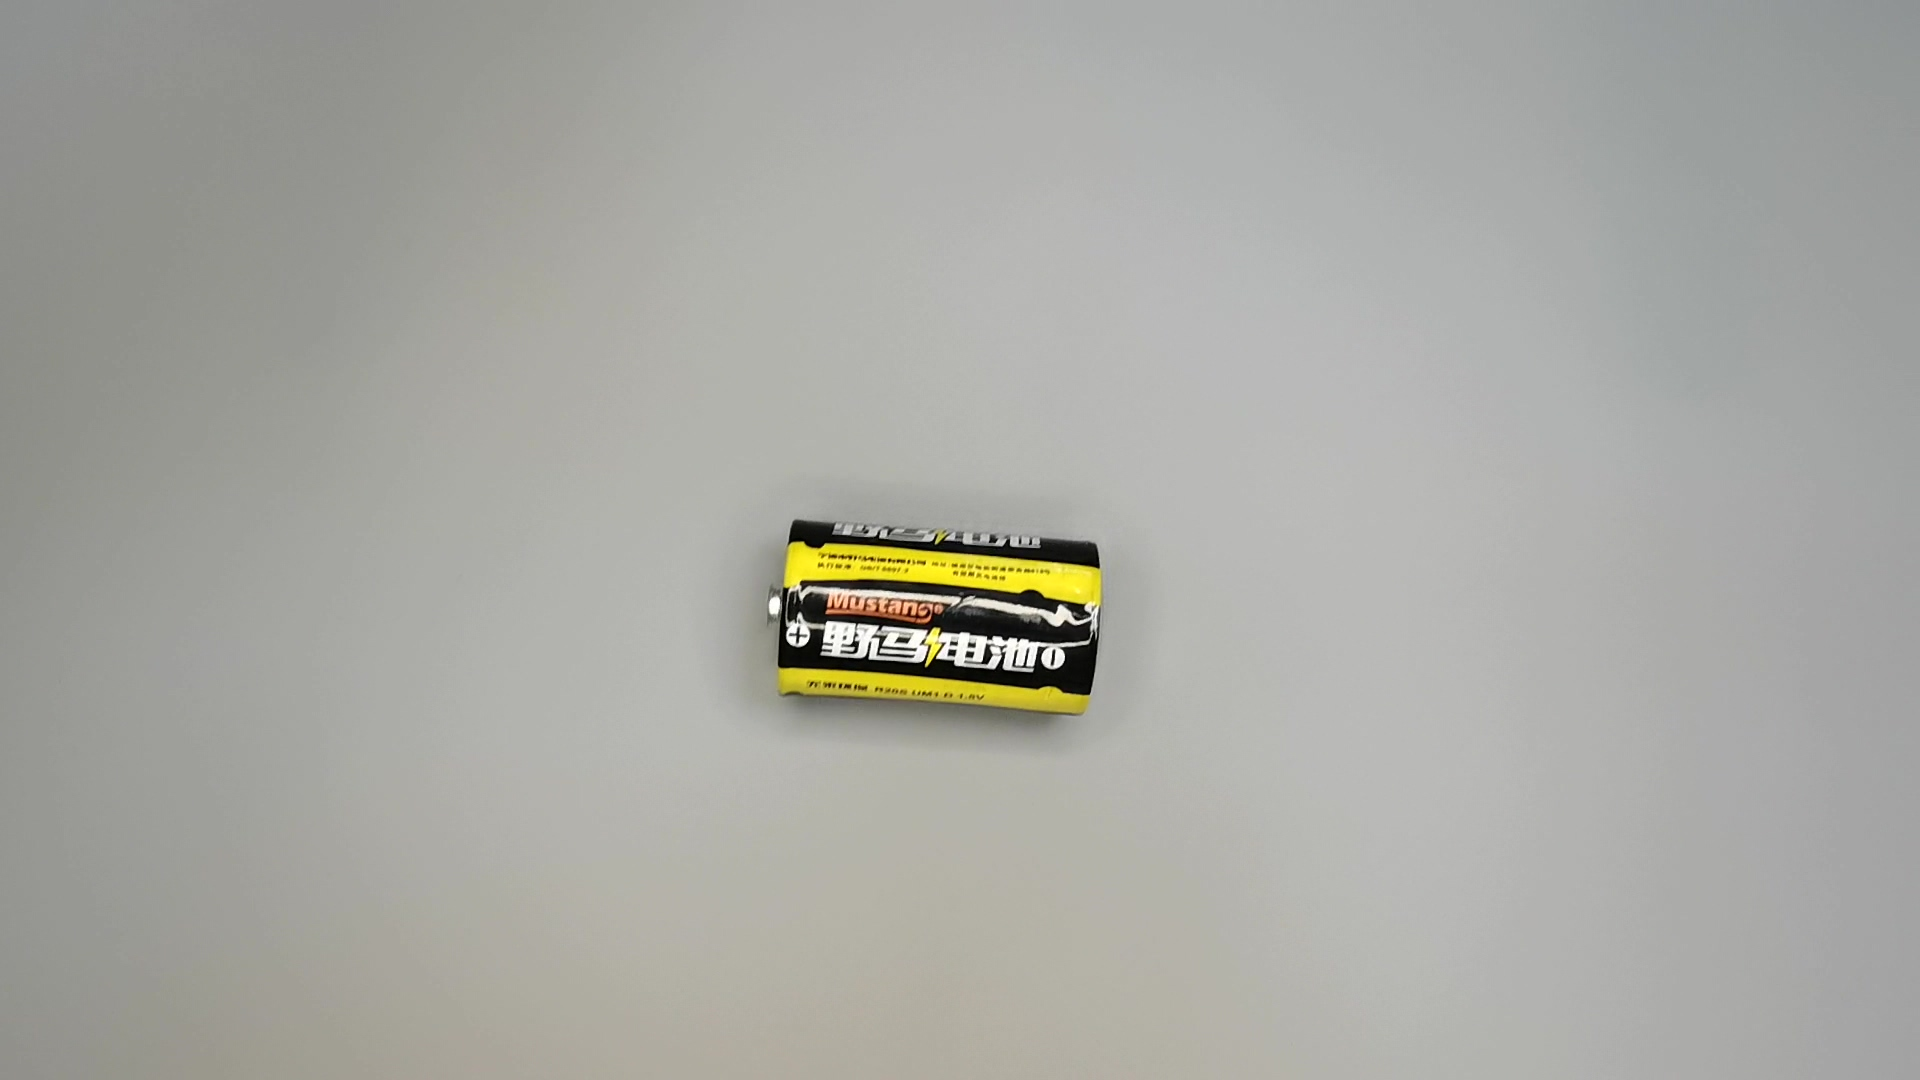battery: (764, 516, 1106, 723)
